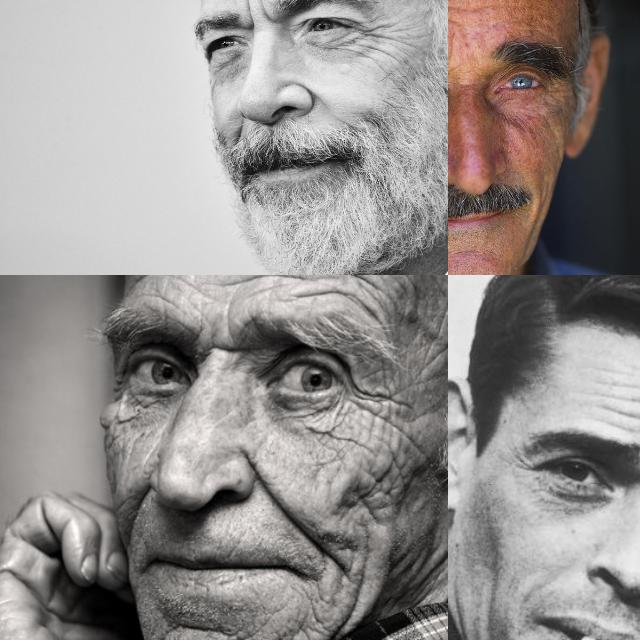chin: (170, 618, 244, 640), (267, 631, 295, 640)
crows_feet: (358, 16, 392, 58), (350, 384, 390, 418), (510, 446, 534, 476), (110, 374, 122, 402)
forehead: (300, 275, 385, 317), (214, 275, 291, 293), (602, 399, 640, 435)
frown_line: (192, 338, 235, 368), (244, 0, 271, 29)
gummy_smile: (242, 450, 322, 540), (127, 482, 153, 538)
masseter: (359, 454, 413, 522), (392, 550, 432, 590), (342, 572, 366, 628), (441, 530, 448, 565)
sad_smile: (304, 580, 326, 626)
